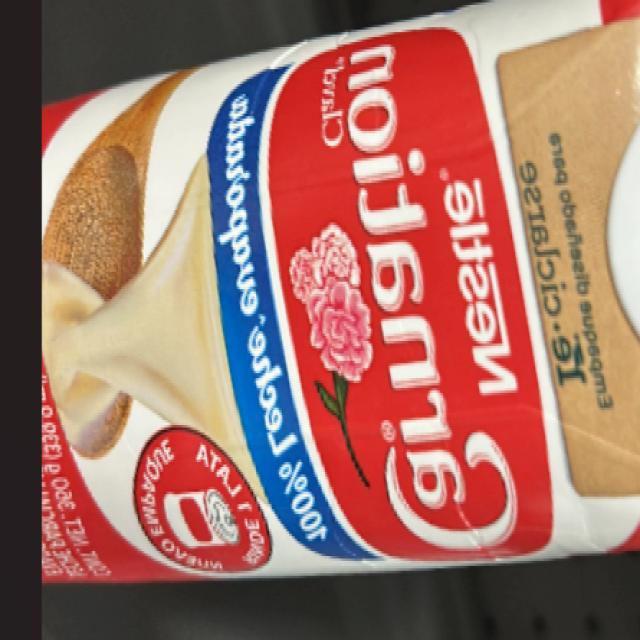nestleCarnation: (46, 30, 640, 554)
